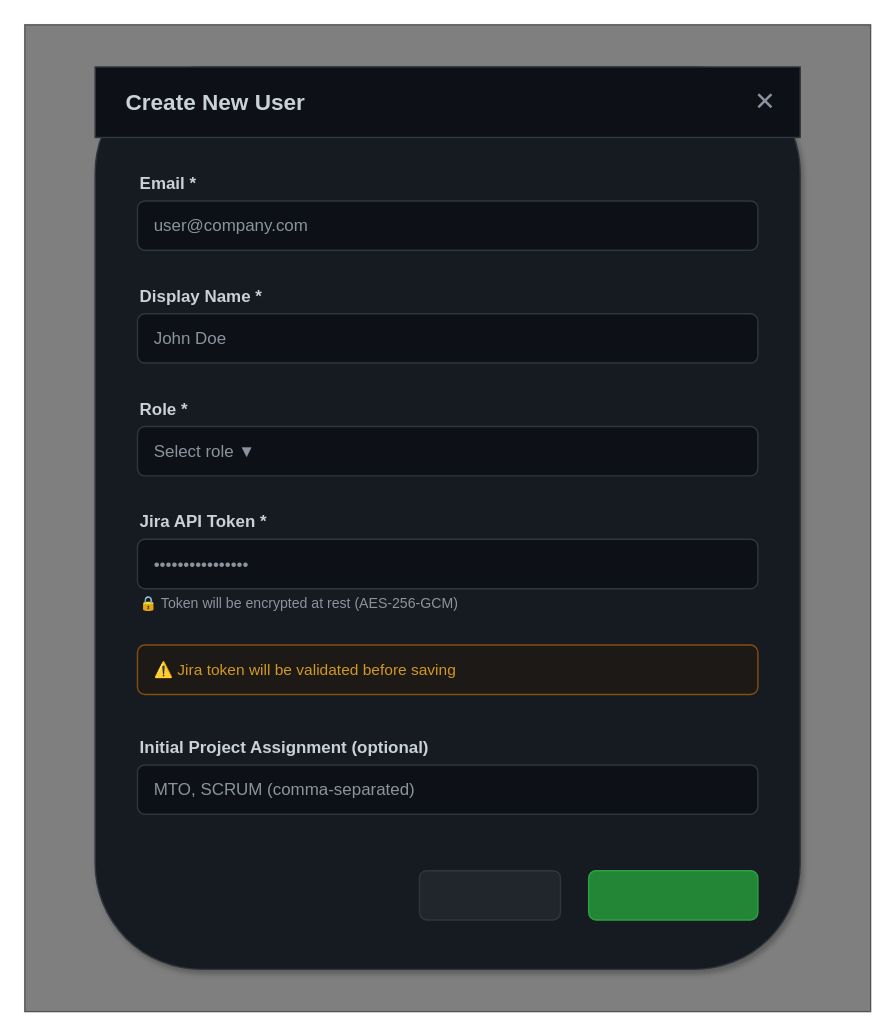
This 895x1036 diagram has some shape labels left out. Each missing label, with the centre of its shape:
"Cancel" belongs at point 489,894.
"Create User" belongs at point 672,894.
